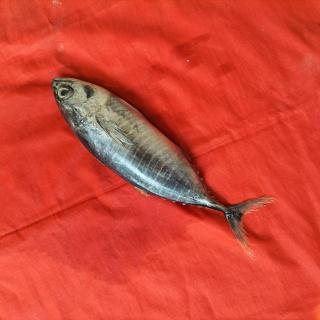Ikan: (47, 68, 272, 254)
